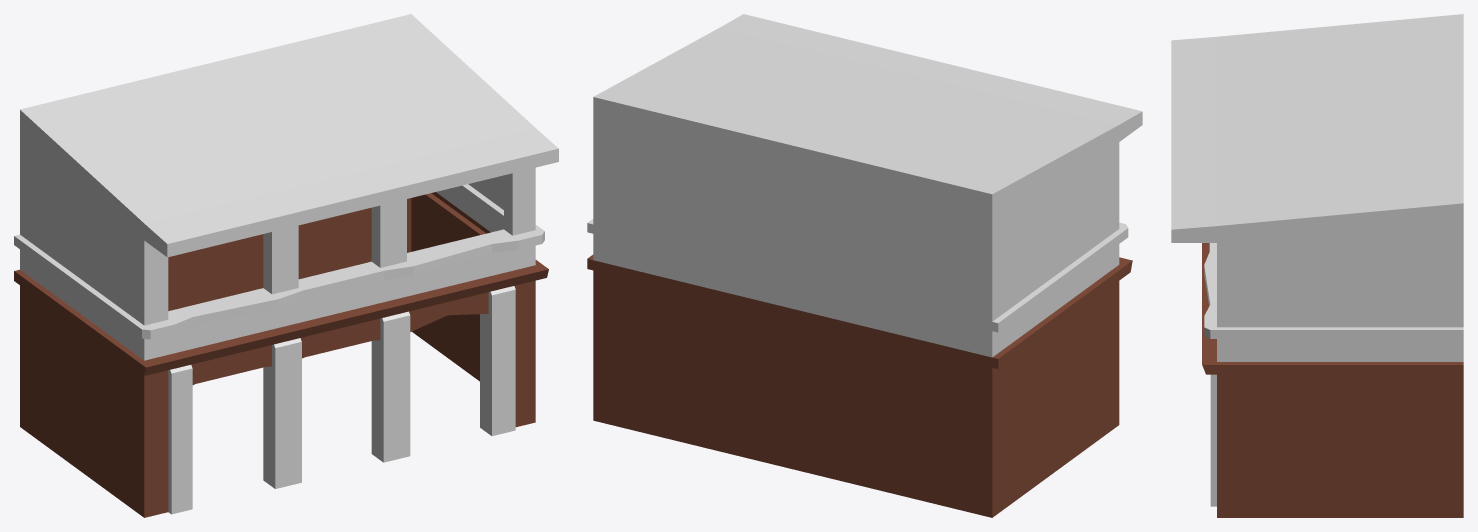
File: House_1_TEX.fbx
3 renders of one model, left to right at view 1: azimuth 30°, elevation 25°; view 2: azimuth 150°, elevation 25°; view 3: azimuth 270°, elevation 25°, orthographic. The views are drawn at different scales.
Parts seen in each view (by area): view 1: Cube; view 2: Cube; view 3: Cube.
Part boxes in pixels (x1,y1,x2,y2): Cube: (14,14,558,517); Cube: (587,14,1142,517); Cube: (1171,14,1463,517).
Bounding box in the file's own units: 1046 × 787 × 663.
